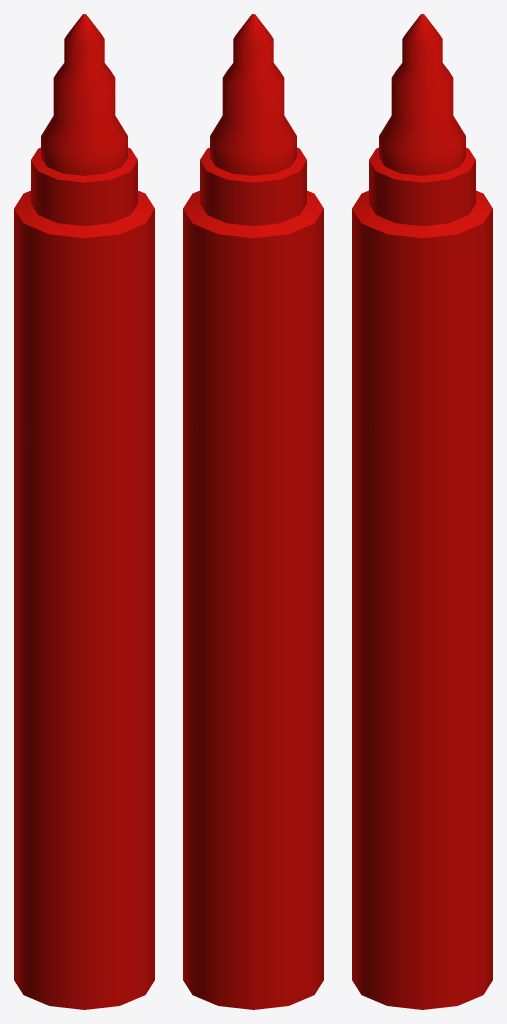
File: red_marker.obj
3 renders of one model, left to right at view 1: azimuth 30°, elevation 25°; view 2: azimuth 150°, elevation 25°; view 3: azimuth 270°, elevation 25°, orthographic.
Parts seen in each view (by area): view 1: red_marker; view 2: red_marker; view 3: red_marker.
Boxes of the visible parts, x1,y1,x2,y2 form: red_marker: [14, 14, 154, 1009]; red_marker: [183, 14, 323, 1009]; red_marker: [352, 14, 492, 1009].
Bounding box in the file's own units: 0.0132 × 0.1 × 0.0132.
Materials: 2 (2 with a texture image).
